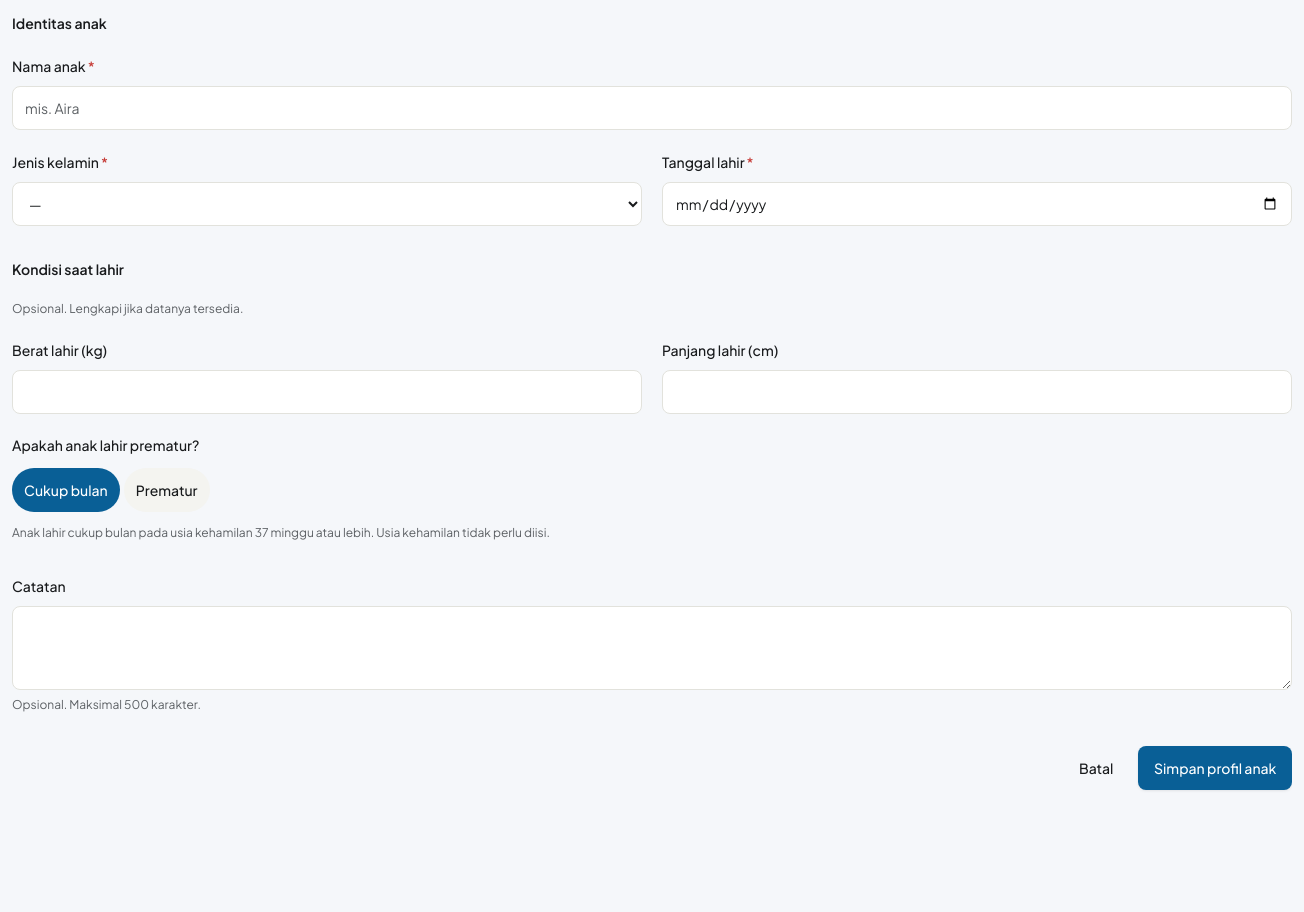
Test: AddChildForm › renders field-level errors when the action returns them
Type "Aira" into the field labelled "Nama anak*". click: (652, 108)
box: x1=12 y1=86 x2=1292 y2=130
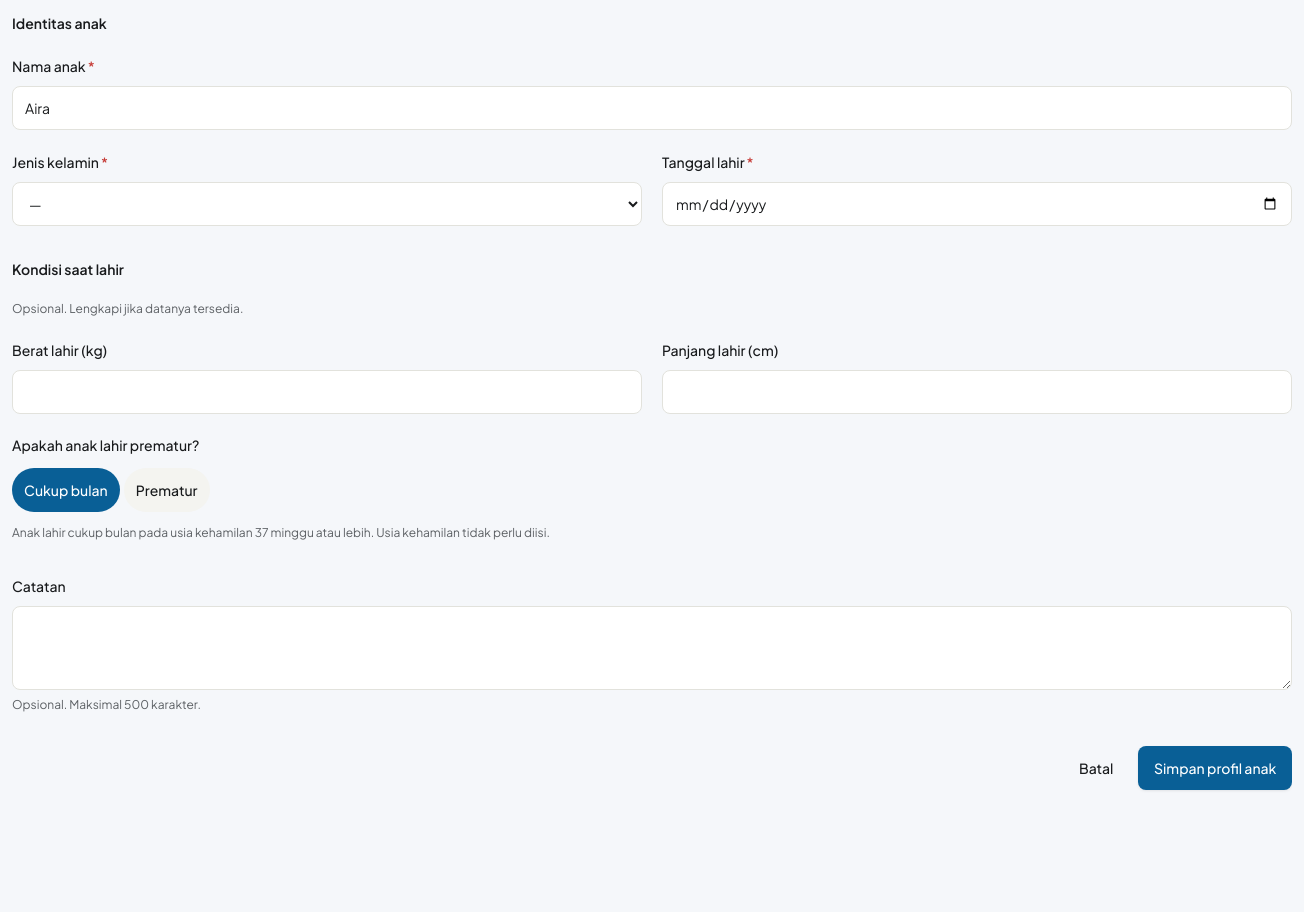
Select "Perempuan" in the dropdown labelled "Jenis kelamin*". click: (327, 204)
box: x1=12 y1=182 x2=642 y2=226
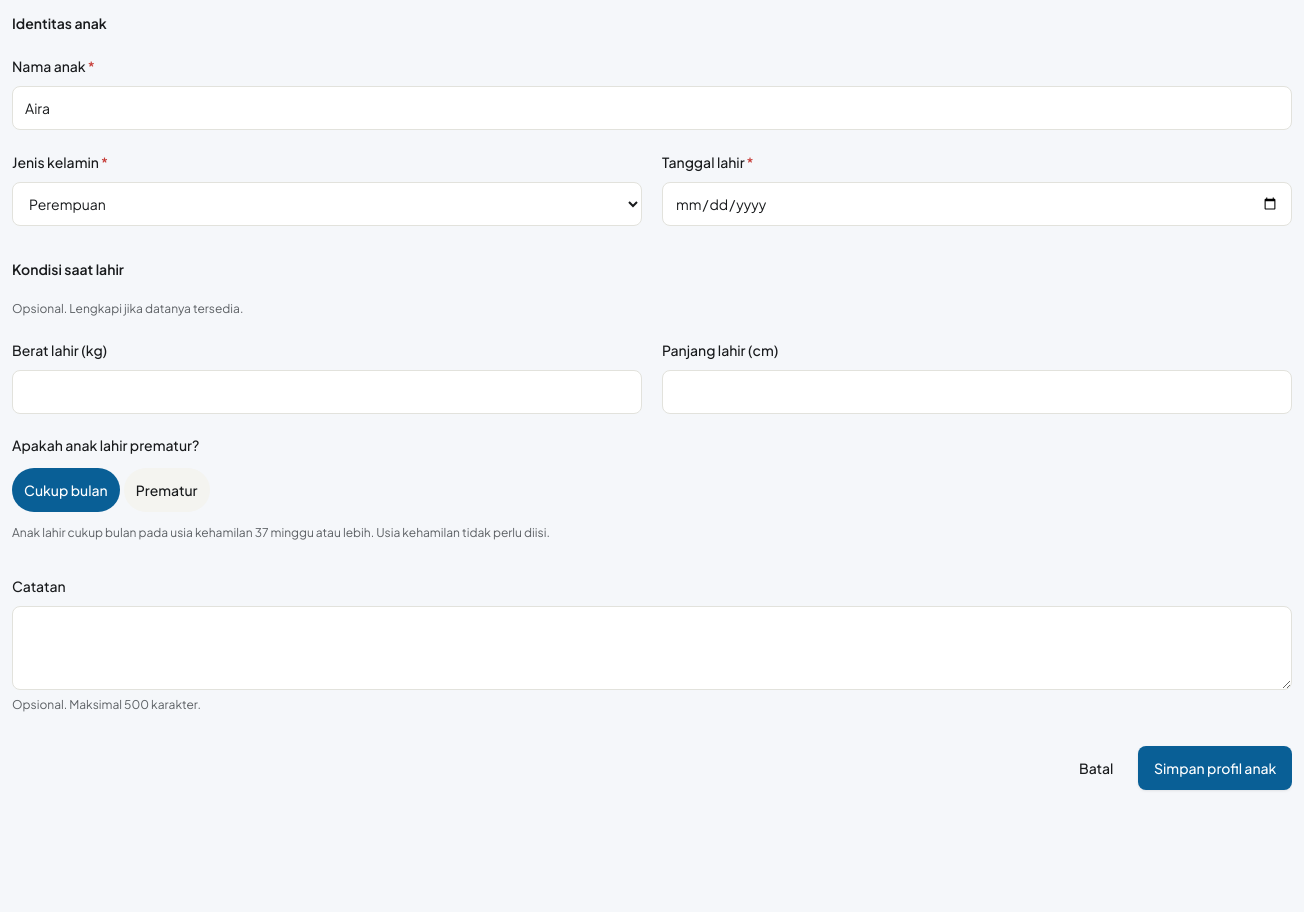
Type "2024-01-15" into the date field labelled "Tanggal lahir*". click: (977, 204)
box: x1=662 y1=182 x2=1292 y2=226
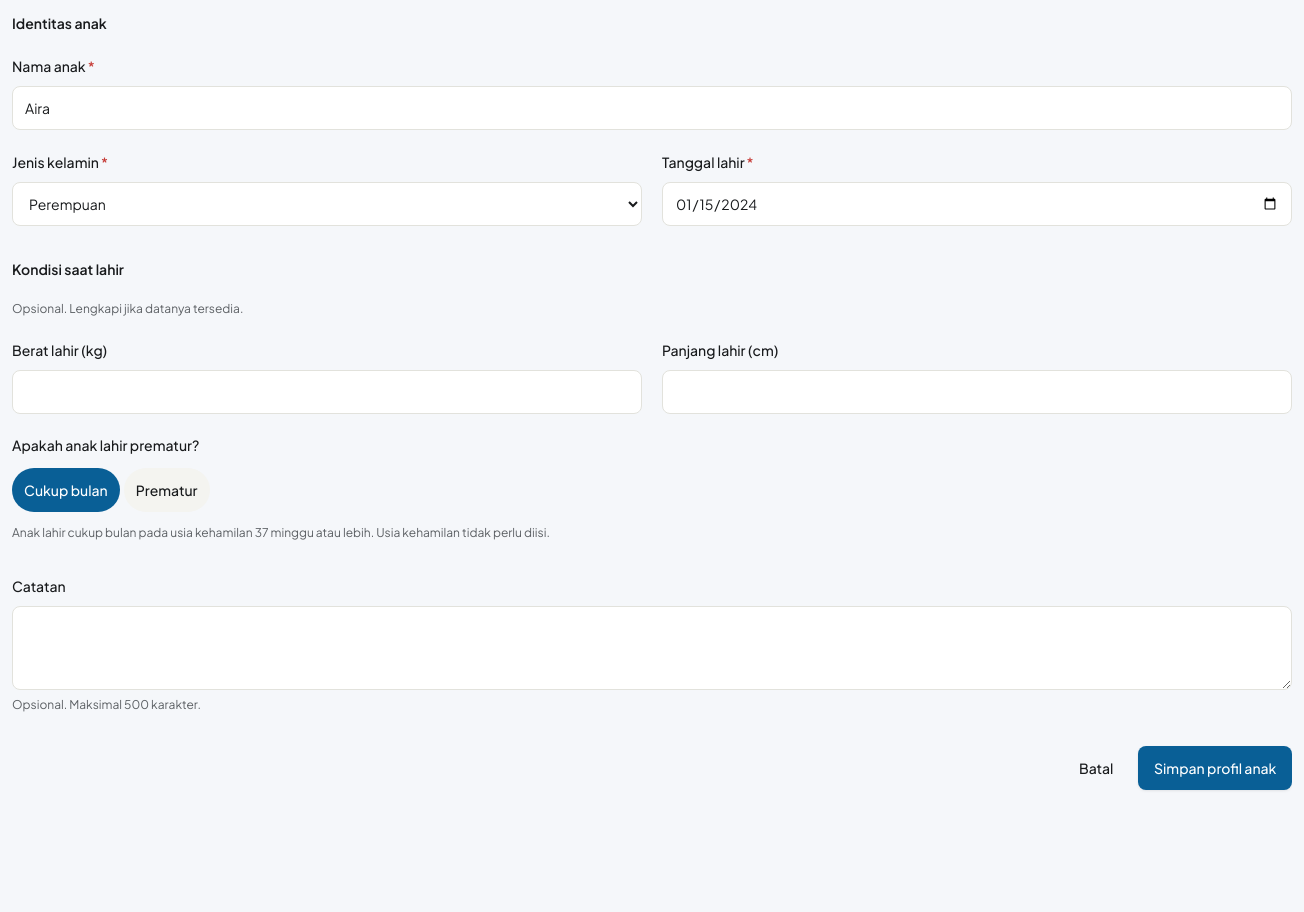
Click the button "Simpan profil anak". click: (1215, 768)
box: x1=1138 y1=746 x2=1292 y2=790
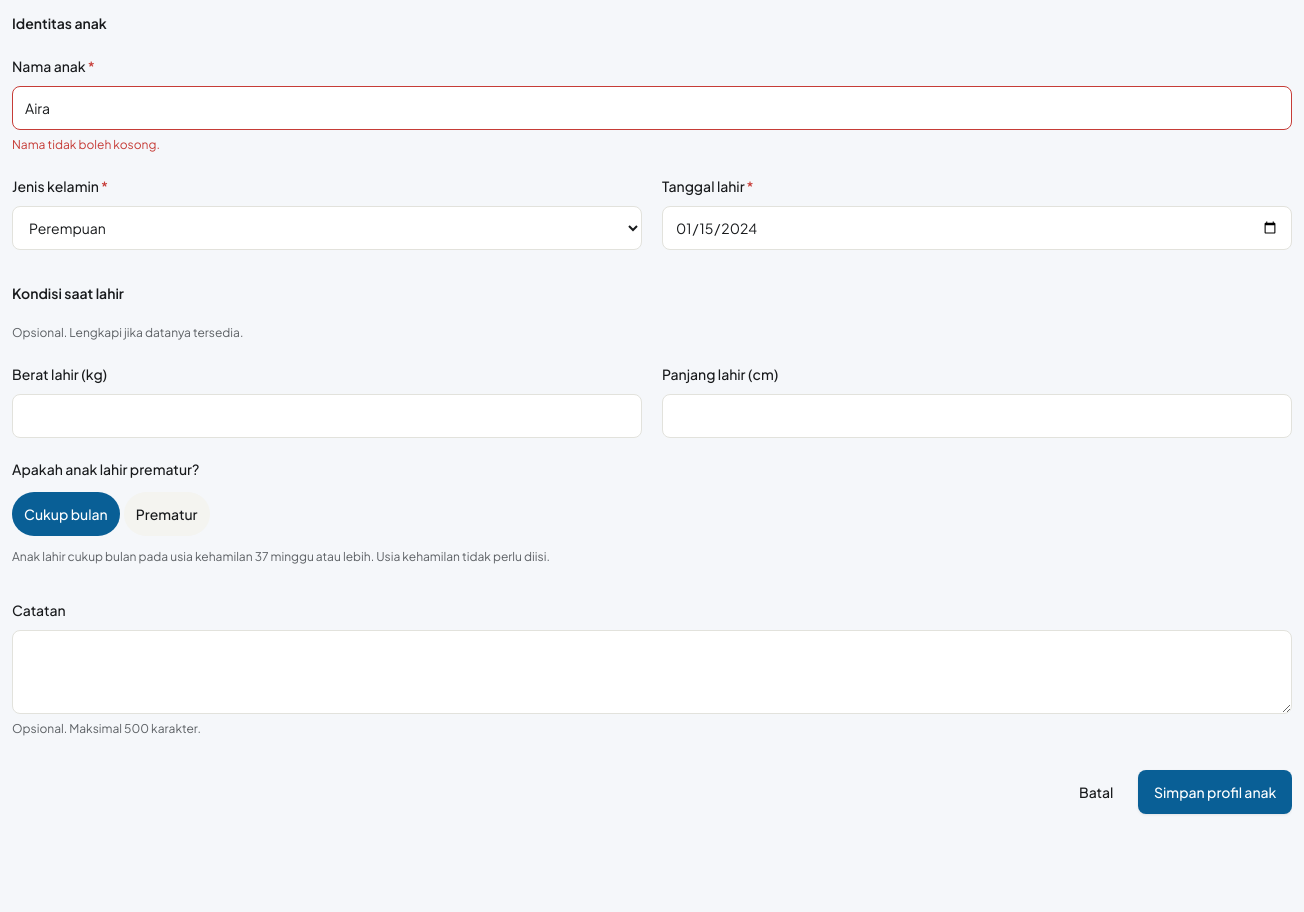
Expected: the text "Nama tidak boleh kosong." is shown, x1=12 y1=137 x2=160 y2=152
